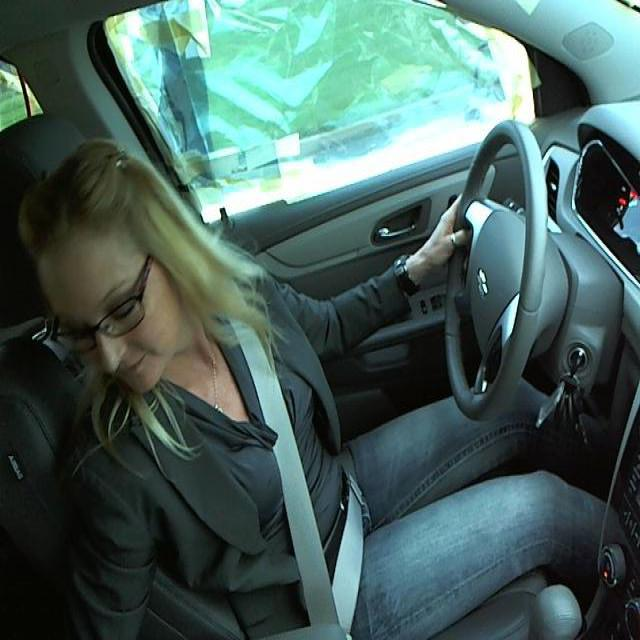seatbelt: (218, 295, 372, 633)
